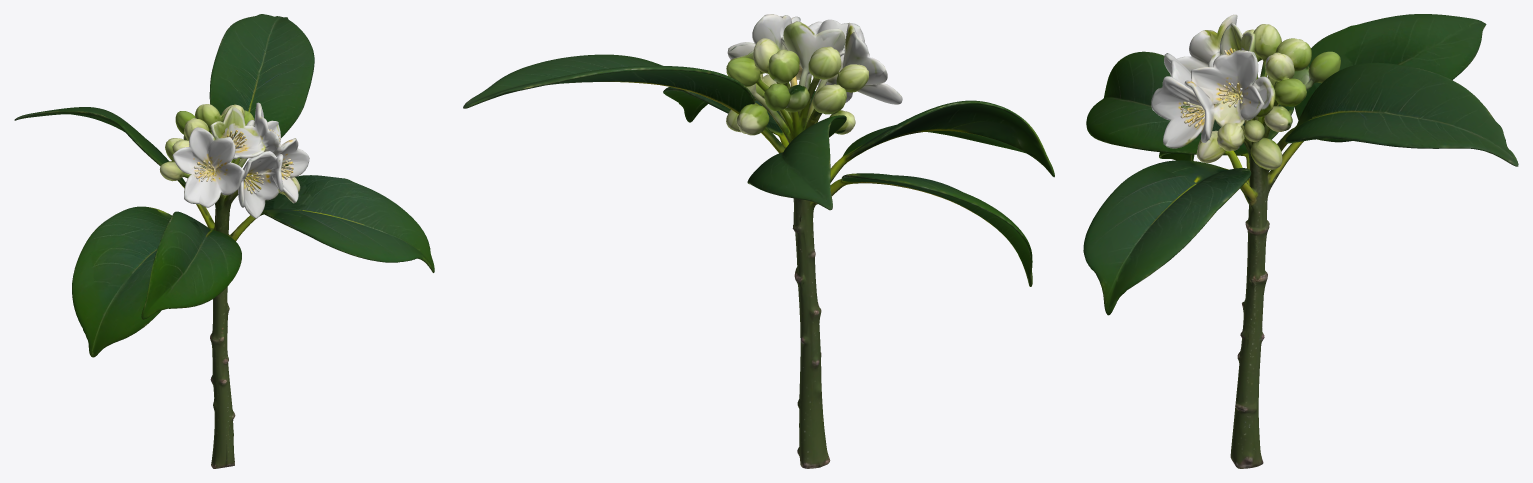
File: youhua.glb
3 views of the same model, side by side, from view 1: azimuth 30°, elevation 25°; view 2: azimuth 150°, elevation 25°; view 3: azimuth 270°, elevation 25° (orthographic). The views are drawn at different scales.
Visible parts, largest first — view 1: node_0; view 2: node_0; view 3: node_0.
Part boxes in pixels (box(x1,y1,x2,y2)): node_0: box(14, 14, 434, 468); node_0: box(463, 14, 1054, 468); node_0: box(1083, 14, 1518, 468).
Size of the model in its own units: 0.7508 by 0.7614 by 0.6861.
1 material, 1 textured.
